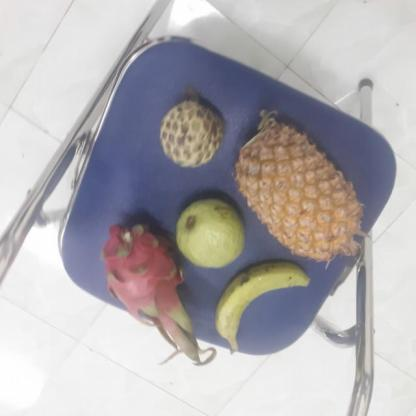annona: (162, 98, 230, 167)
banana: (218, 260, 312, 349)
guava: (174, 199, 248, 268)
pineapple: (240, 116, 365, 261)
pitaya: (104, 223, 204, 342)
